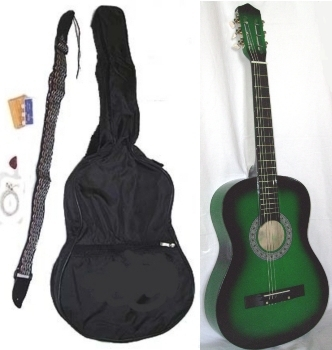guitar: (207, 3, 330, 350)
